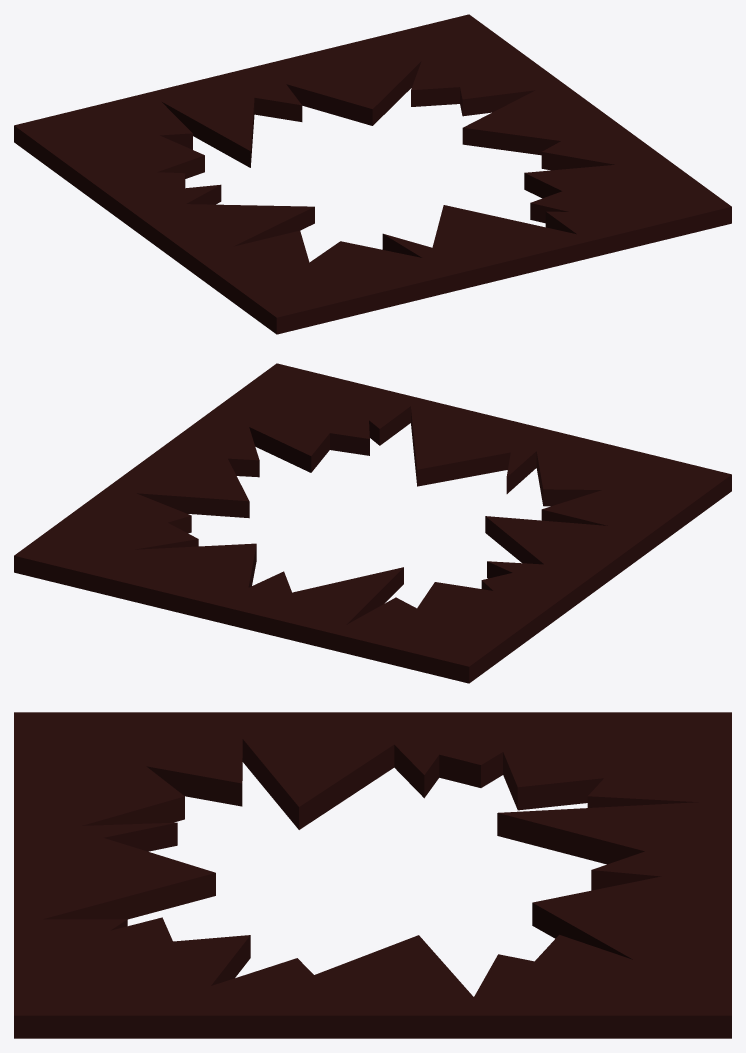
The model's file is Hole.fbx.
The picture shows the model from 3 angles, top to bottom: view 1: azimuth 30°, elevation 25°; view 2: azimuth 150°, elevation 25°; view 3: azimuth 270°, elevation 25°; orthographic projection. The views are drawn at different scales.
Parts seen in each view (by area): view 1: Hole; view 2: Hole; view 3: Hole.
Boxes of the visible parts, x1,y1,x2,y2 form: Hole: (14,14,731,334); Hole: (14,363,731,683); Hole: (14,712,731,1038).
Size of the model in its own units: 317 by 11.23 by 317.
